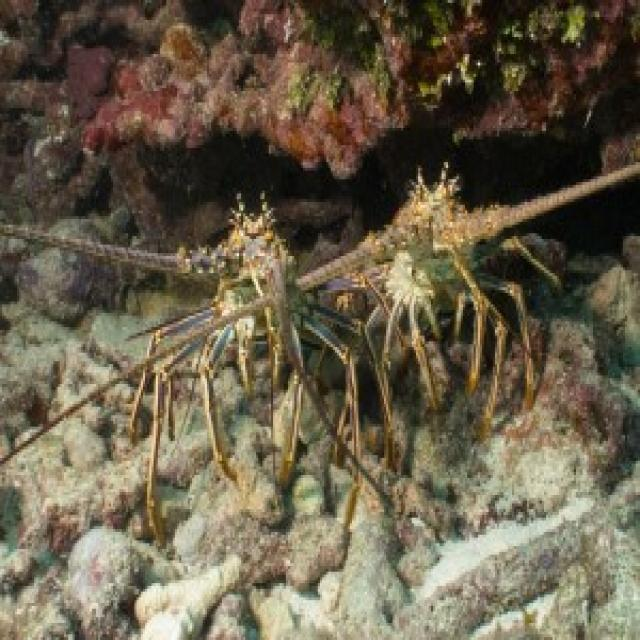lobsters: (2, 140, 370, 574), (371, 145, 640, 523)
